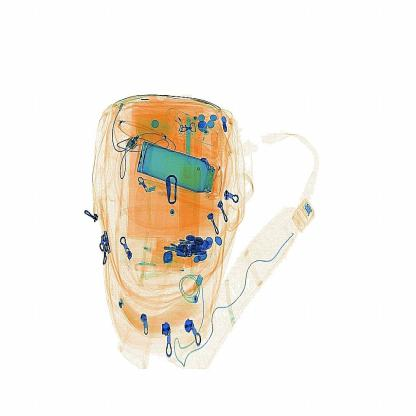pliers: (179, 111, 199, 186)
